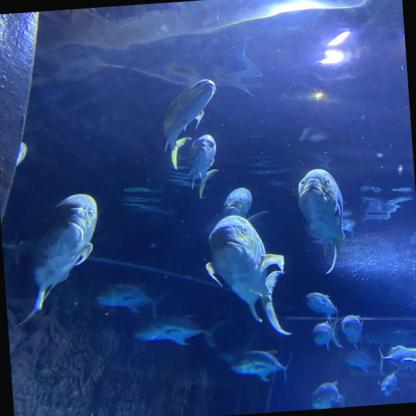fish: (203, 212, 292, 340), (22, 192, 104, 310), (158, 78, 221, 170), (297, 168, 348, 274), (134, 312, 233, 354), (96, 280, 166, 321), (185, 134, 221, 199), (231, 349, 295, 384), (220, 186, 268, 227), (376, 344, 416, 376), (309, 379, 349, 409), (343, 348, 384, 374), (310, 319, 341, 352), (305, 291, 338, 322), (341, 314, 366, 349), (377, 370, 402, 398)
